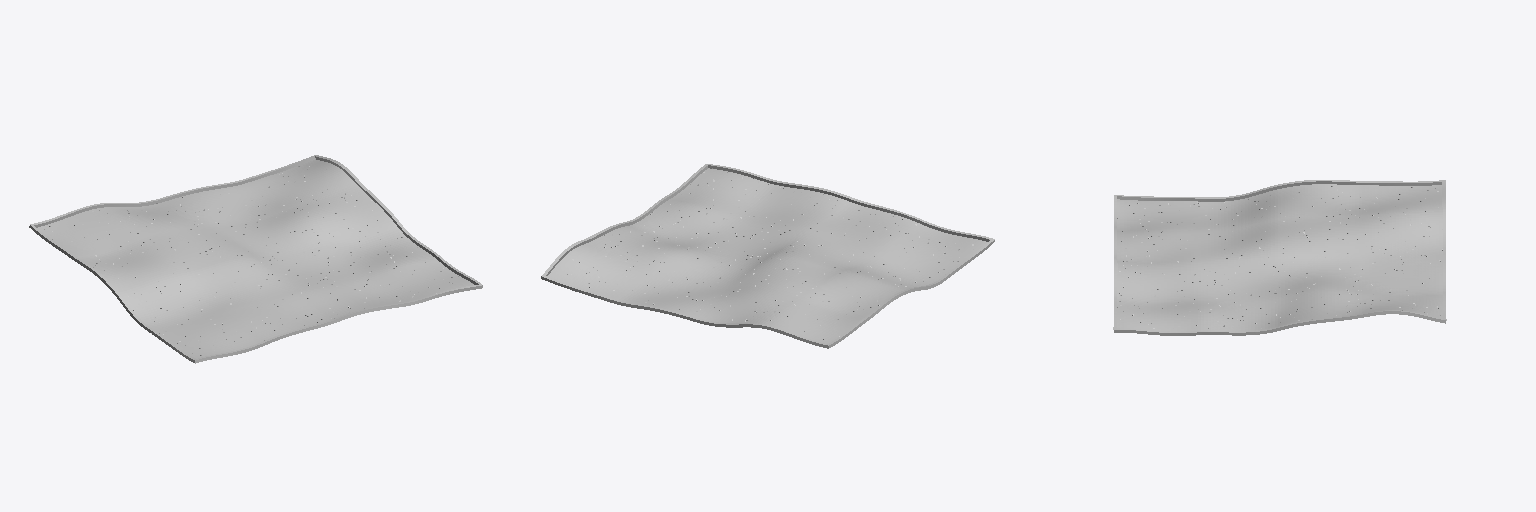
File: track_2.obj
3 renders of one model, left to right at view 1: azimuth 30°, elevation 25°; view 2: azimuth 150°, elevation 25°; view 3: azimuth 270°, elevation 25°, orthographic.
Visible parts, largest first — view 1: default; view 2: default; view 3: default.
Boxes of the visible parts, box(x1,y1,x2,y2) form: default: box(29, 155, 482, 363); default: box(541, 164, 994, 348); default: box(1113, 180, 1446, 335).
Size of the model in its own units: 1003 by 99.26 by 1002.